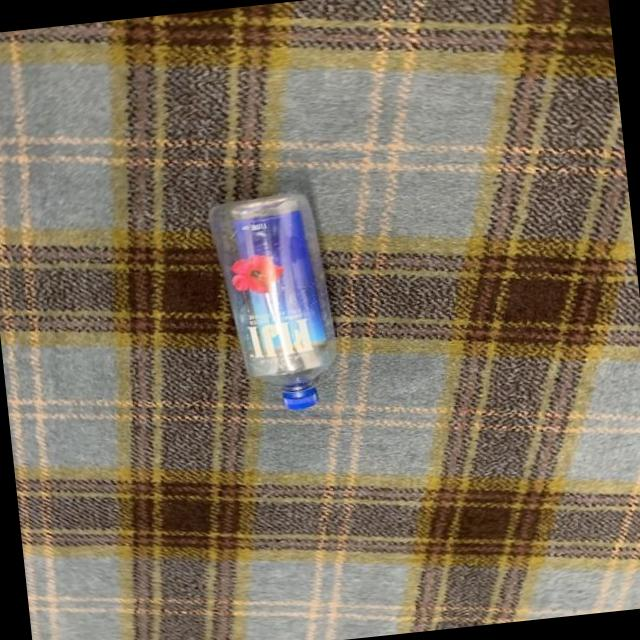BotolPlastik: (206, 189, 345, 419)
